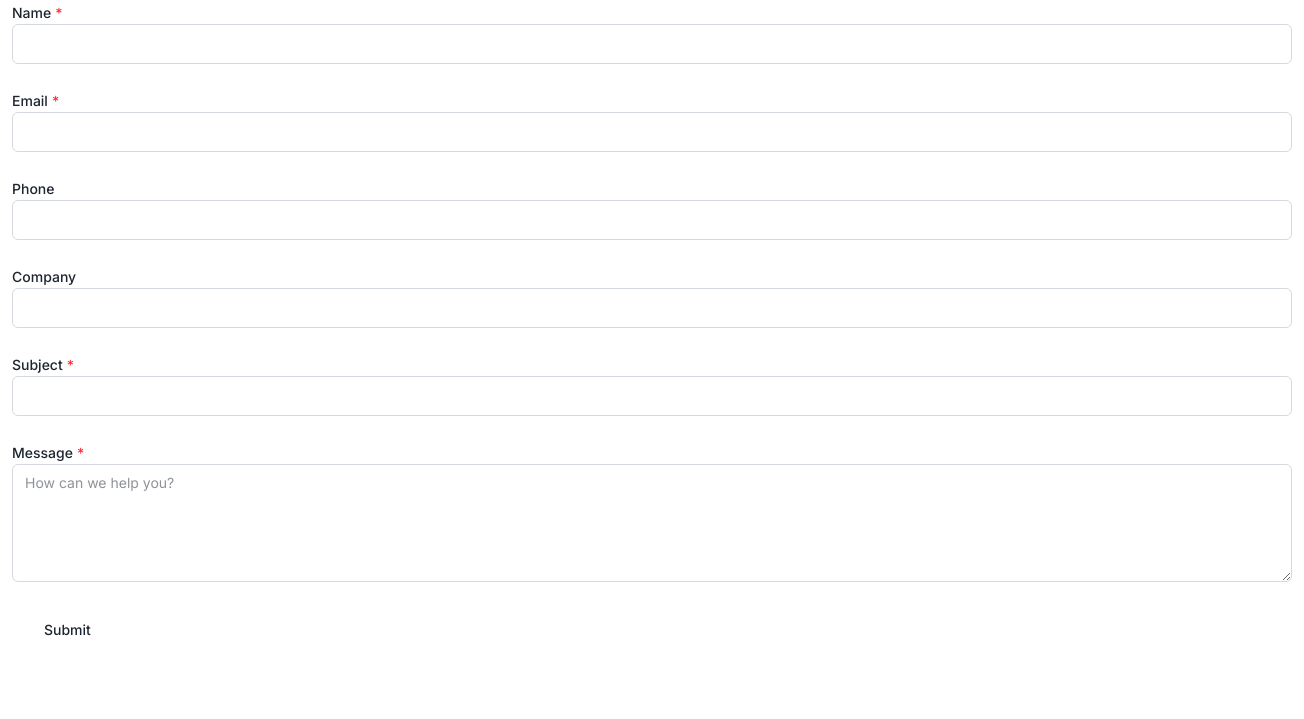
it: ContactForm › Validation › shows validation error for empty required fields on submit
The width and height of the screenshot is (1304, 719).
Step 1. Click the button "Submit" → [67, 630], box [12,606,123,654]
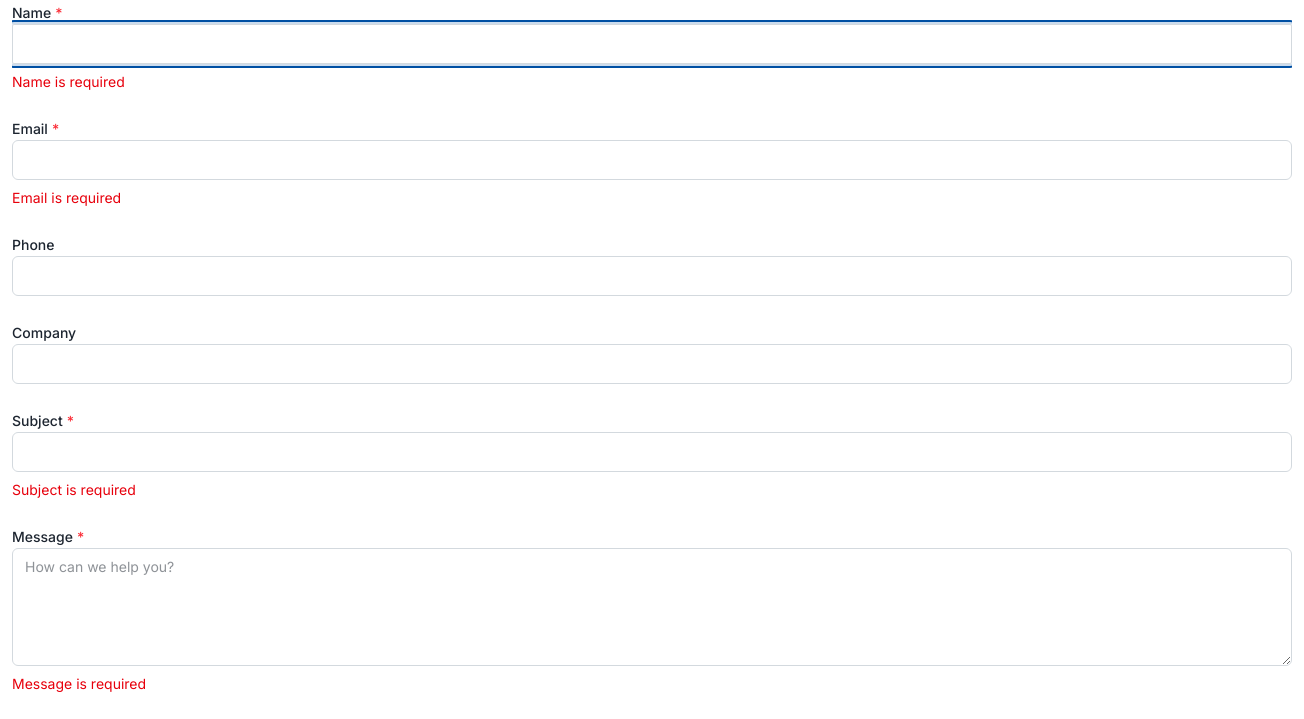
Now the text "Name is required" is shown, box [12,73,125,90]
Now the text "Email is required" is shown, box [12,189,121,206]
Now the text "Subject is required" is shown, box [12,481,136,498]
